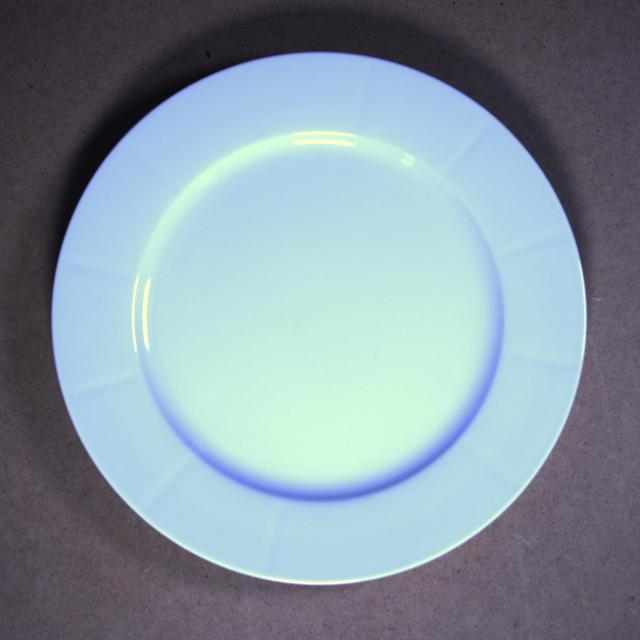plate: (52, 52, 586, 584)
